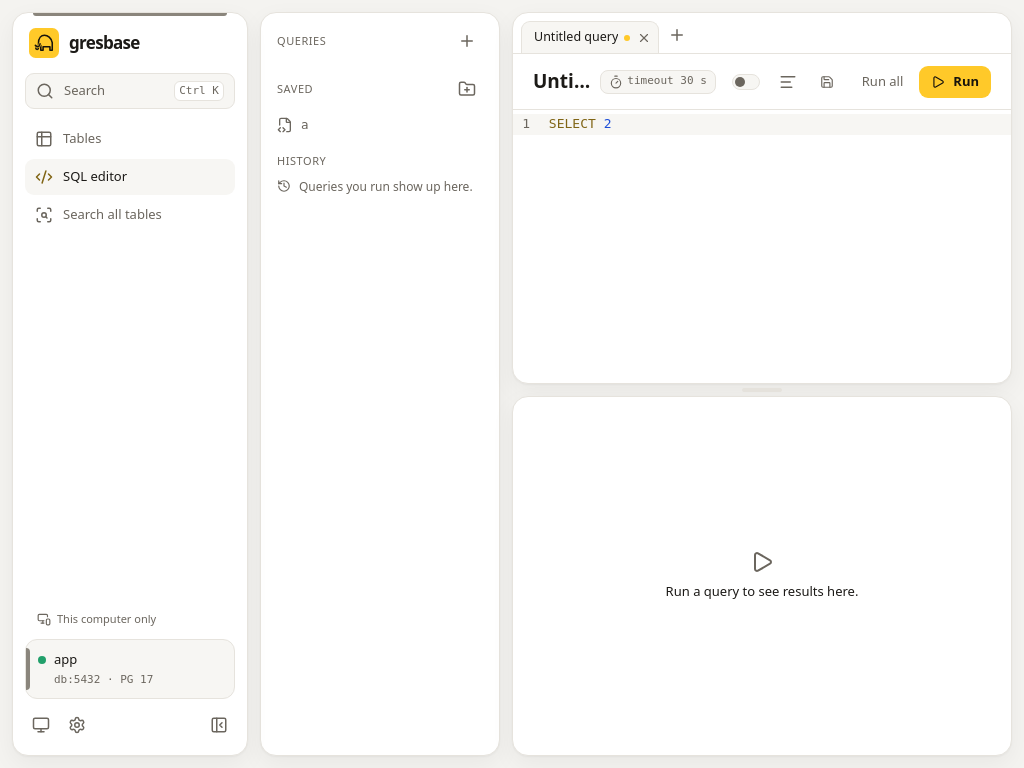
Test: saved queries › says when the name is taken
This screenshot has width=1024, height=768.
Click the button named "Save". click: (827, 82)
box: [808,66,846,98]
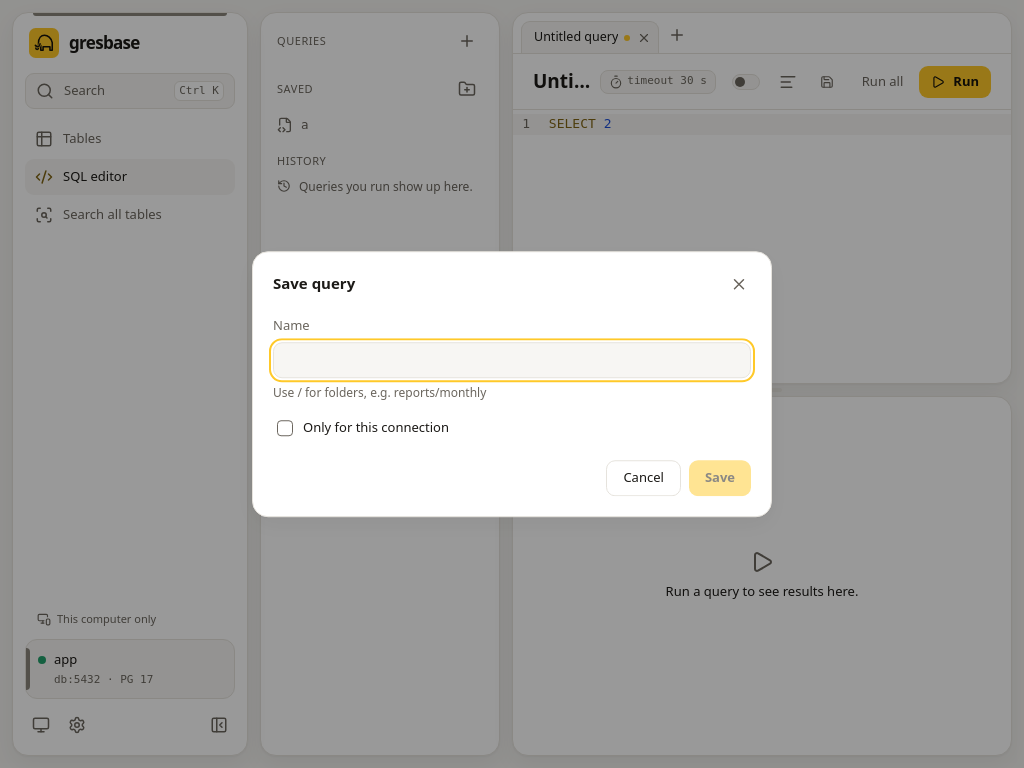
Type "a" into the field labelled "Name". click: (512, 360)
box: [273,342,751,378]
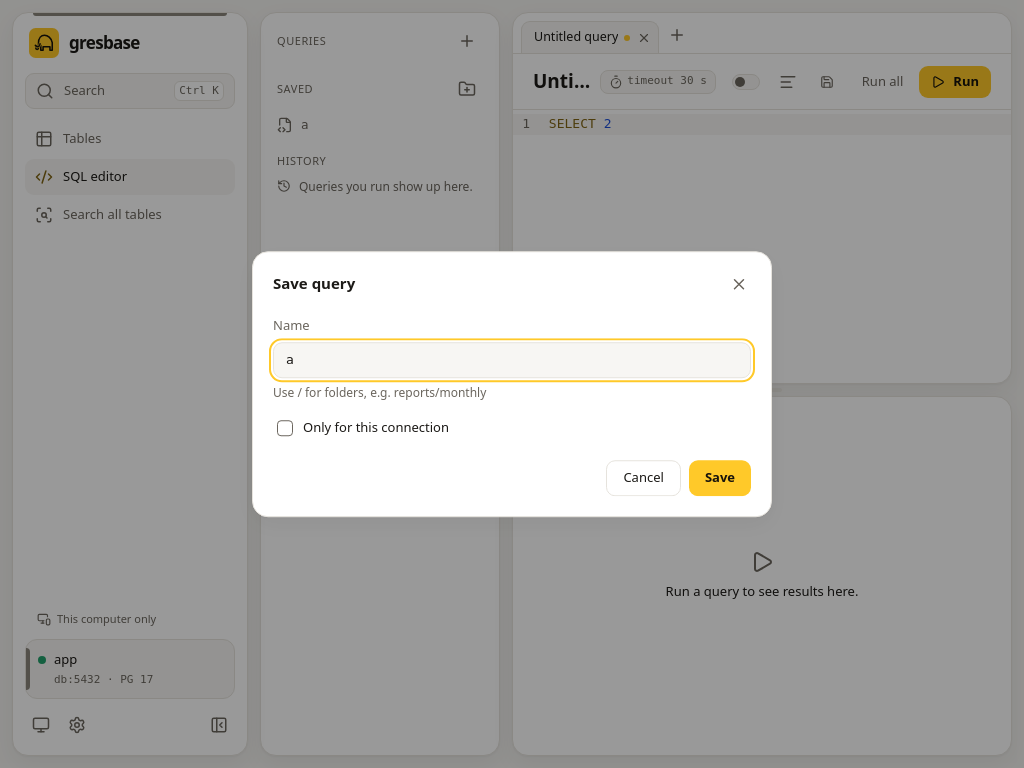
Click the button "Save". click: (720, 478)
box: [689,460,751,496]
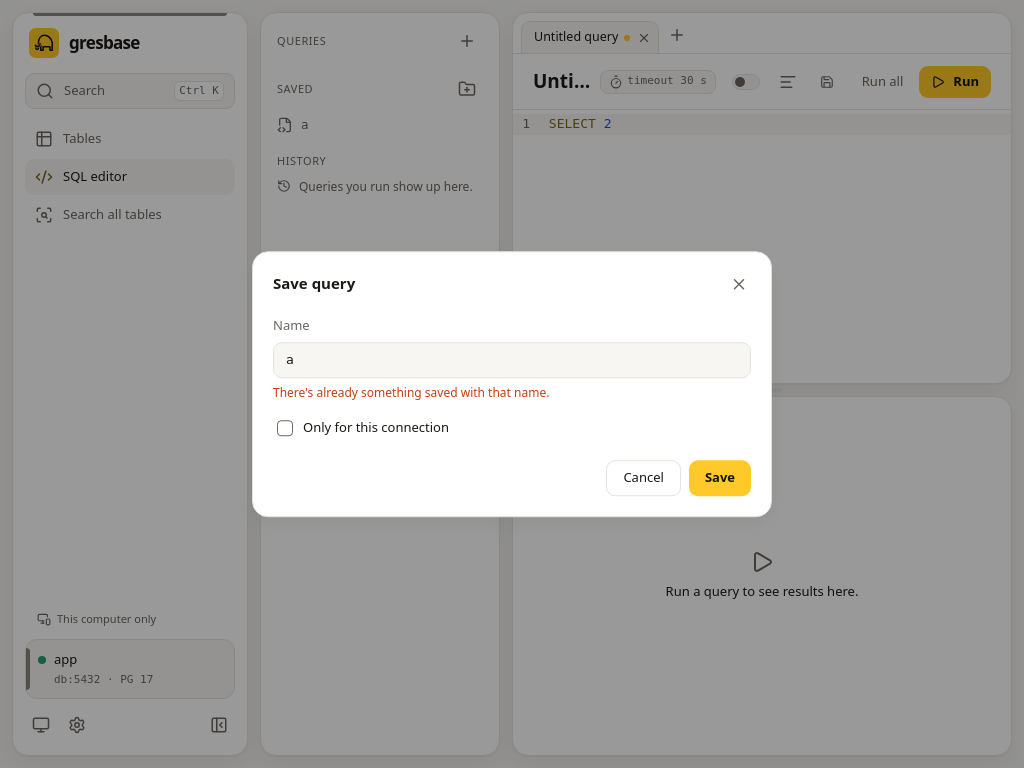
Expected: the text "There's already something saved with that name." is shown, [273,384,549,401]
